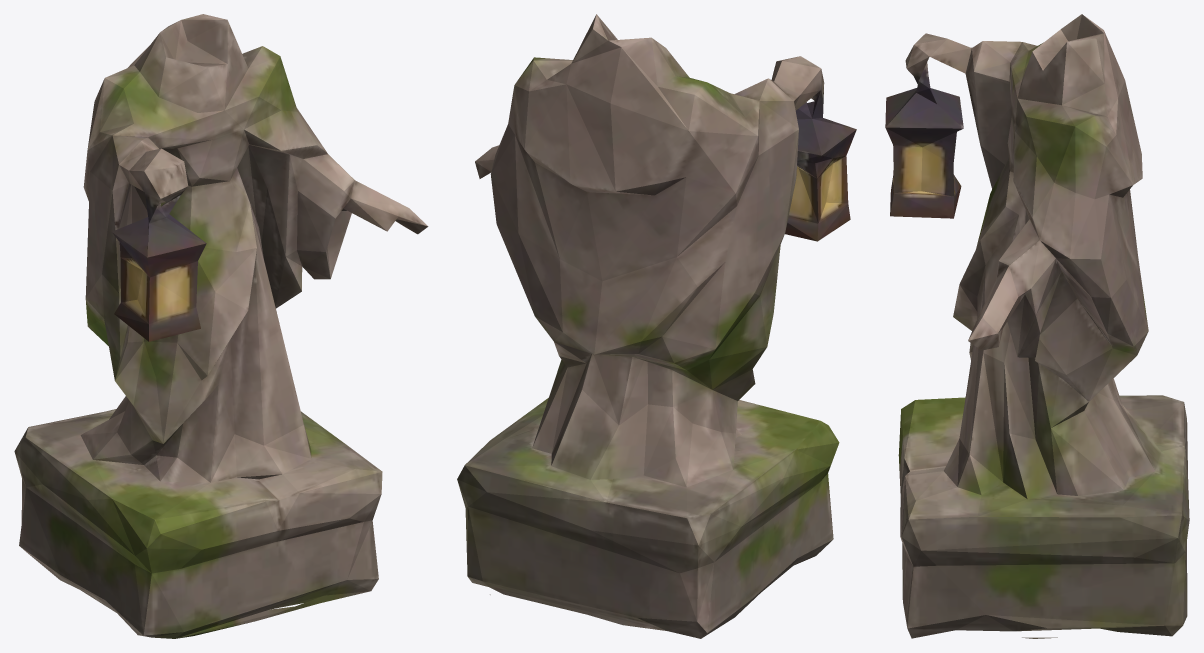
Rendered from statue-broken.glb.
3 renders of one model, left to right at view 1: azimuth 30°, elevation 25°; view 2: azimuth 150°, elevation 25°; view 3: azimuth 270°, elevation 25°, orthographic. The views are drawn at different scales.
Visible parts, largest first — view 1: statue-broken; view 2: statue-broken; view 3: statue-broken.
Boxes of the visible parts, x1,y1,x2,y2 form: statue-broken: (14, 14, 428, 638); statue-broken: (457, 14, 856, 638); statue-broken: (885, 14, 1189, 638).
Size of the model in its own units: 1.6 by 2.55 by 1.25.
1 material, 1 textured.
